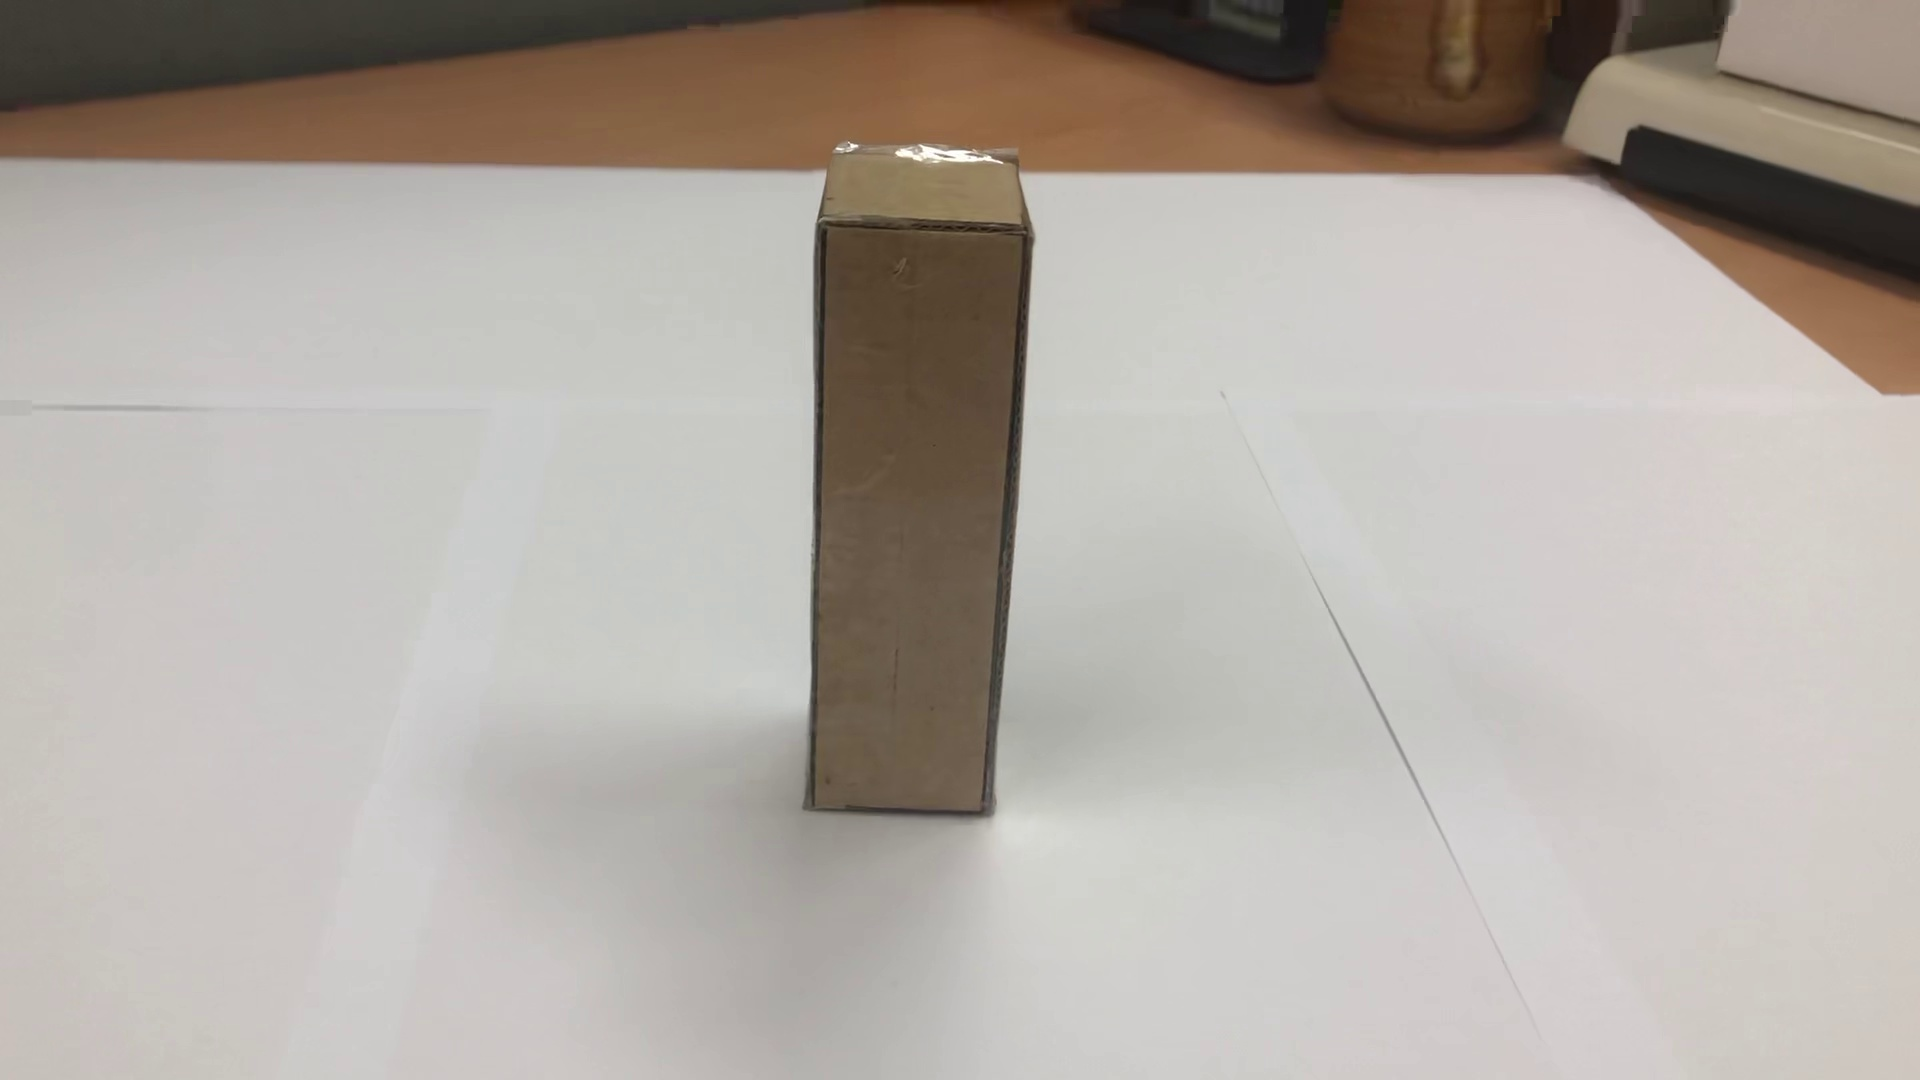box: (785, 117, 1034, 860)
